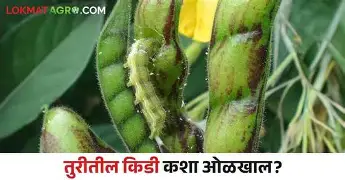crops: (0, 0, 338, 155)
